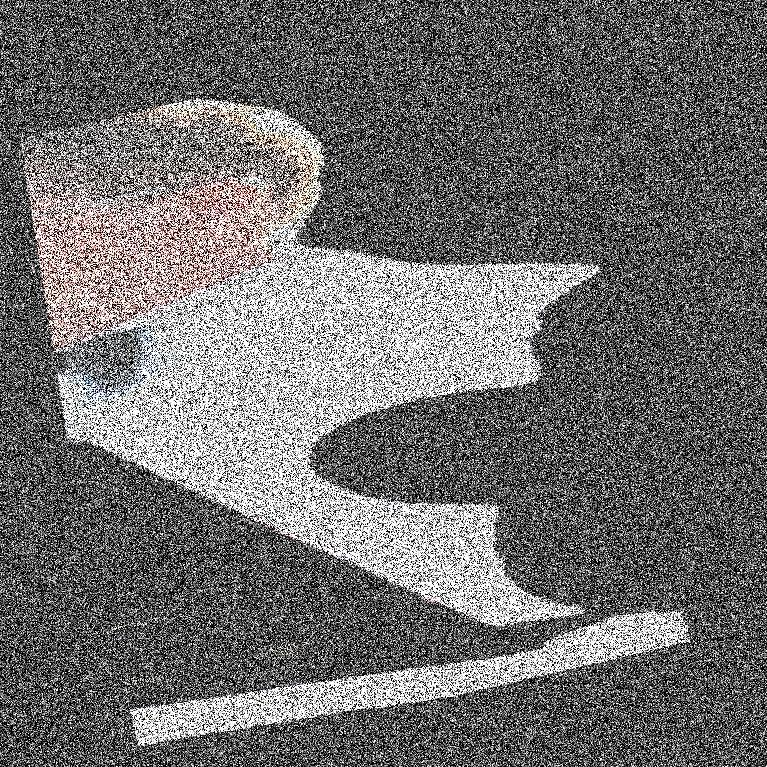Pessoa: (197, 0, 389, 766)
